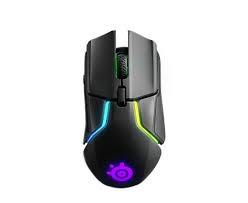mouse: (76, 30, 168, 193)
